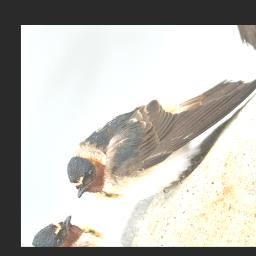Swallow: (54, 35, 256, 230)
